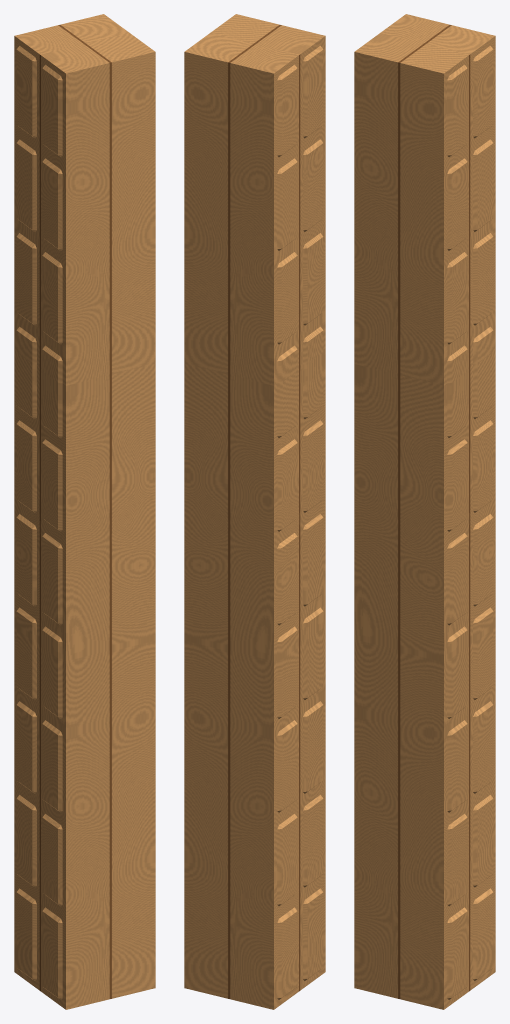
File: Kit_Wood_Joint.fbx
3 views of the same model, side by side, from view 1: azimuth 30°, elevation 25°; view 2: azimuth 150°, elevation 25°; view 3: azimuth 330°, elevation 25° (orthographic).
Visible parts, largest first — view 1: Kit_Wood_Joint_LOD0; view 2: Kit_Wood_Joint_LOD0; view 3: Kit_Wood_Joint_LOD0.
Boxes of the visible parts, box(x1,y1,x2,y2) form: Kit_Wood_Joint_LOD0: box(14, 14, 155, 1009); Kit_Wood_Joint_LOD0: box(184, 14, 325, 1009); Kit_Wood_Joint_LOD0: box(354, 14, 495, 1009).
Size of what is drawn, in the model's own units: 0.32 by 3 by 0.3.
